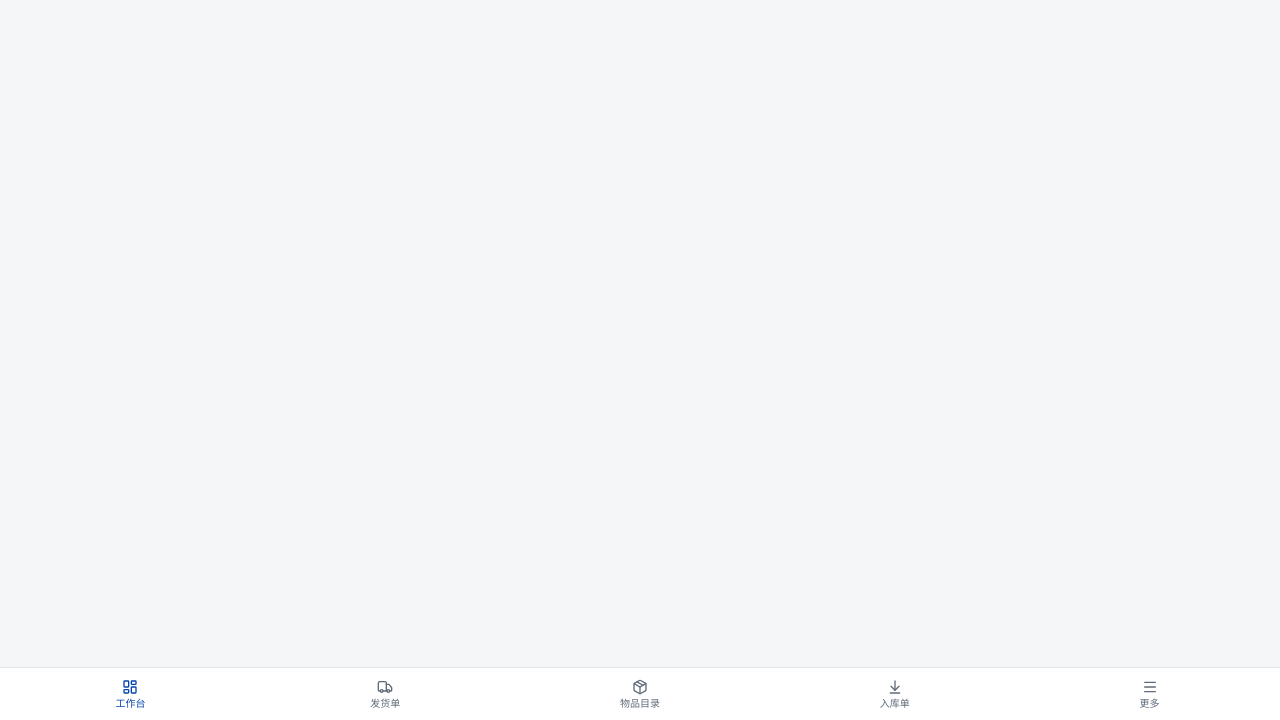
Test case: MobileNav › 「更多」里列全所有路由，包含放不进底栏的与管理端入口
Click the button "更多". click: coordinates (1150, 694)
box: [1023,672,1276,716]
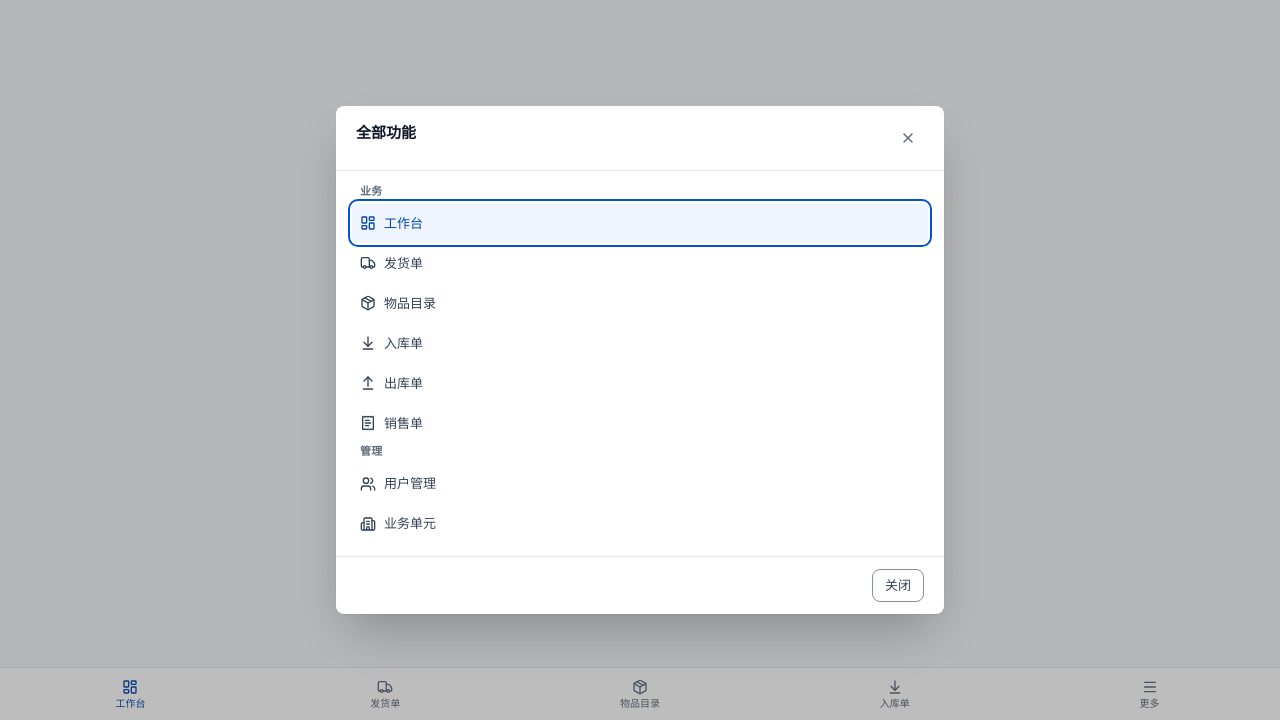
expect the text "工作台" is shown: met, box [384,214,423,230]
expect the text "发货单" is shown: met, box [384,254,423,270]
expect the text "物品目录" is shown: met, box [384,294,436,310]
